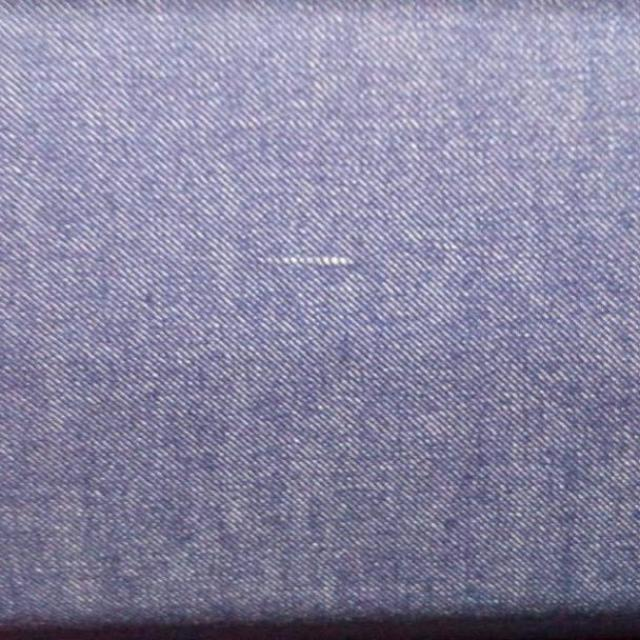Knot: (263, 256, 355, 267)
